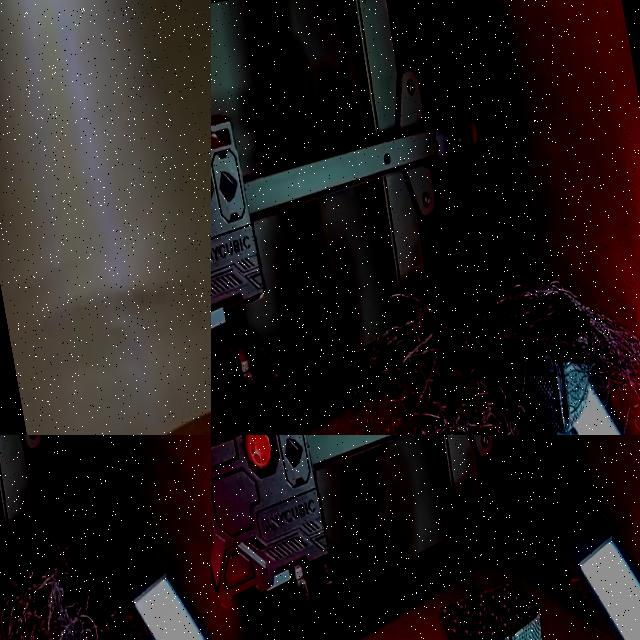spaghetti: (304, 282, 640, 435), (0, 466, 205, 640)
